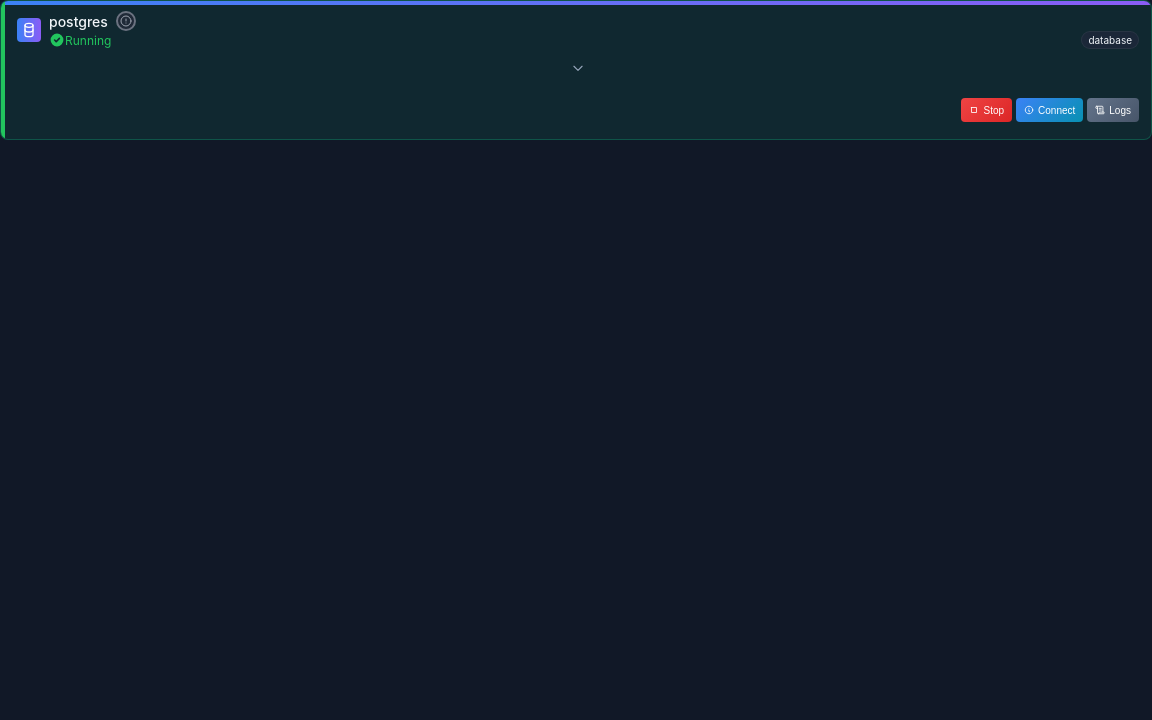
Scenario: ServiceItem Component - User Interactions › Connection Information Modal › should handle connection info when service has proper connection data
Click the button "Connect" at (1050, 110), box top-left (1016, 98), bottom-right (1083, 122)
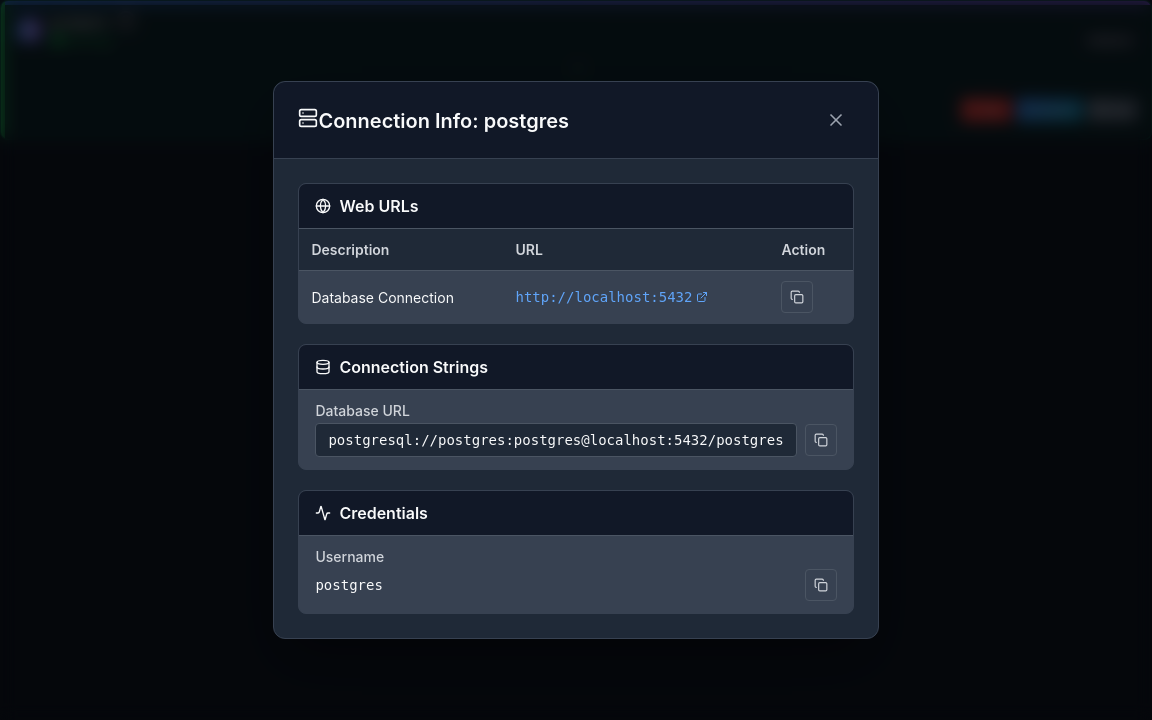
Expected: the heading "Connection Info: postgres" is shown, top-left (298, 108), bottom-right (569, 132)
